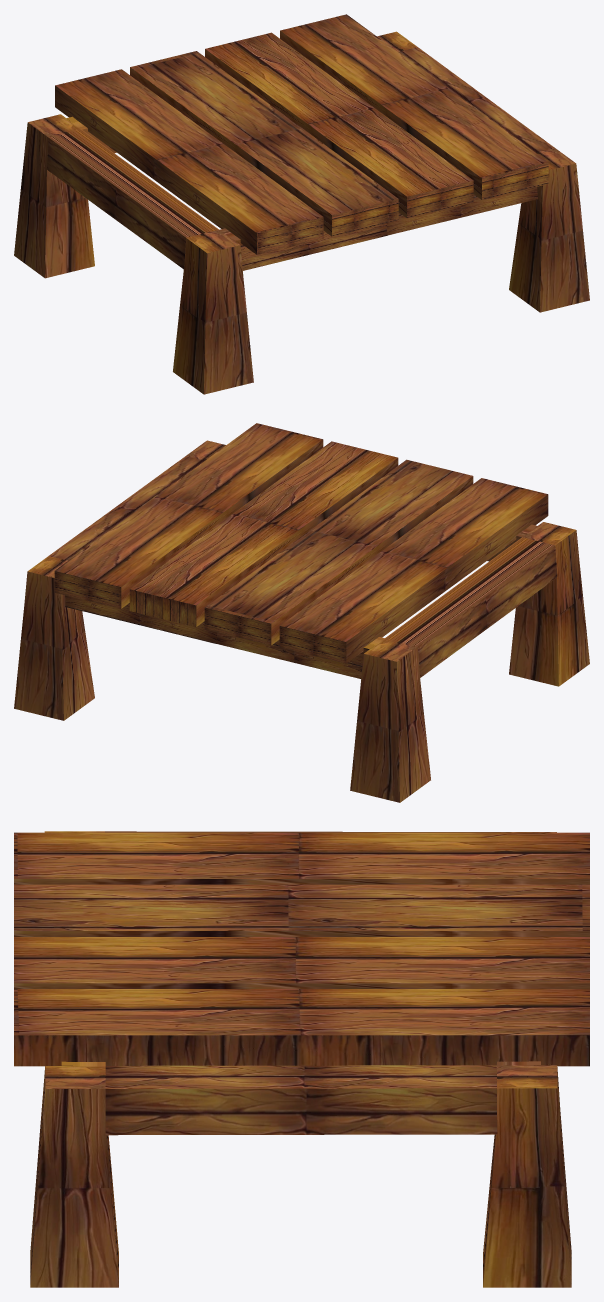
Rendered from Table.fbx.
The picture shows the model from 3 angles, top to bottom: view 1: azimuth 30°, elevation 25°; view 2: azimuth 150°, elevation 25°; view 3: azimuth 270°, elevation 25°; orthographic projection. The views are drawn at different scales.
Parts seen in each view (by area): view 1: Table_Base; view 2: Table_Base; view 3: Table_Base.
Part boxes in pixels (bbox=[...]): Table_Base: bbox=[14, 14, 589, 394]; Table_Base: bbox=[14, 423, 589, 802]; Table_Base: bbox=[14, 831, 589, 1287].
Size of the model in its own units: 927 by 353 by 840.
